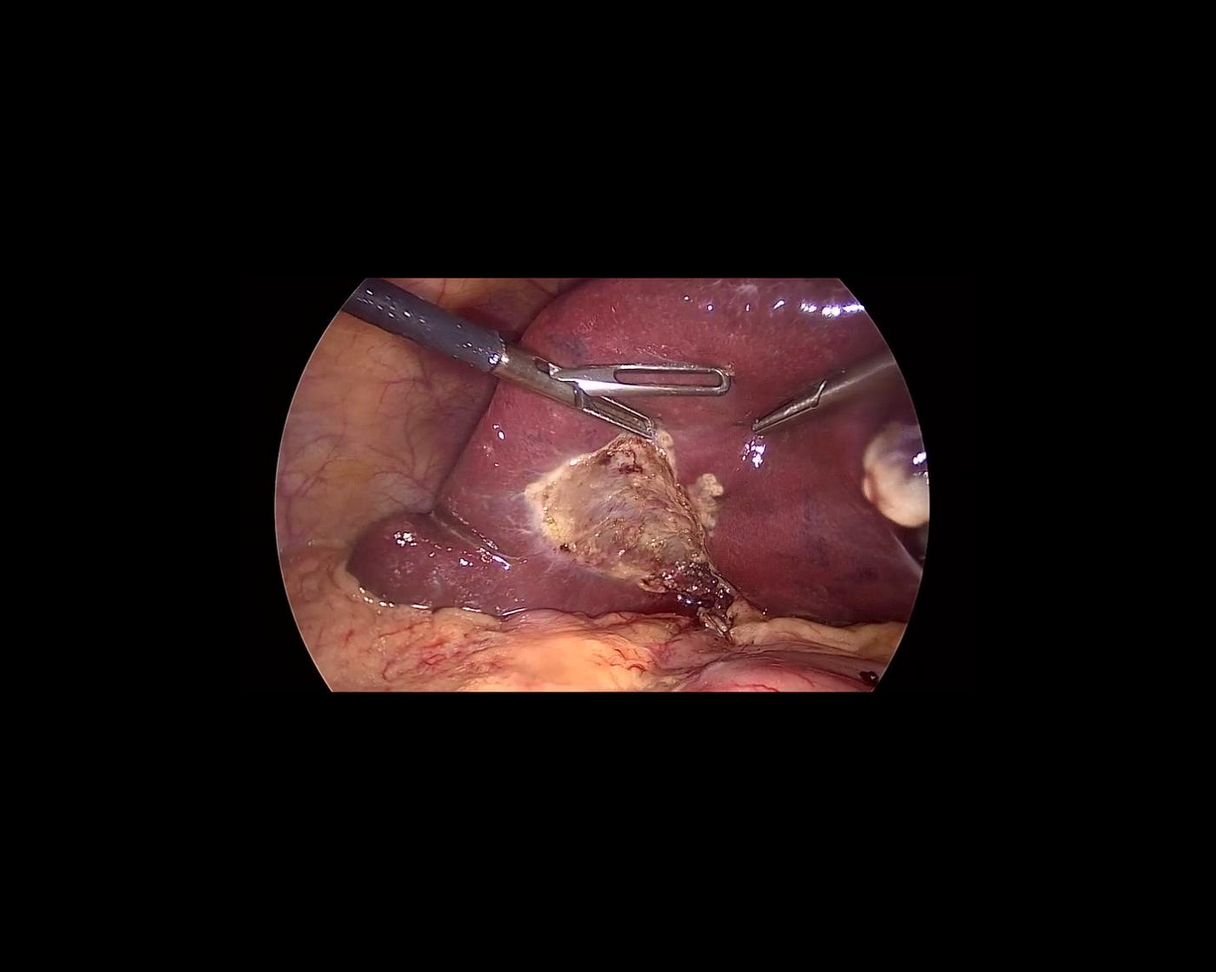Forceps: (328, 270, 735, 456), (741, 348, 905, 439)
Liver: (346, 280, 928, 627)
